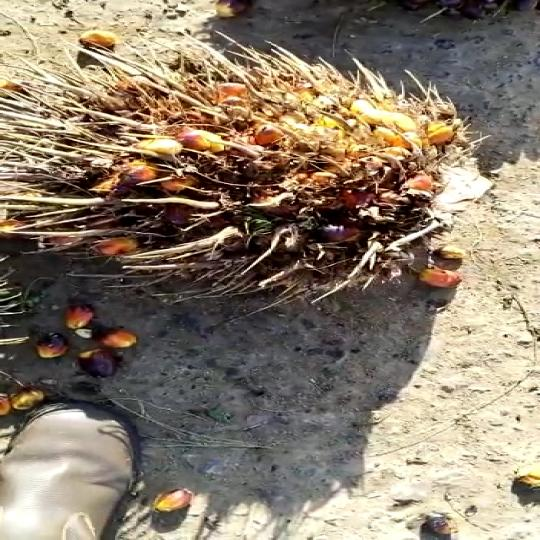terlalu masak: (0, 27, 494, 328)
